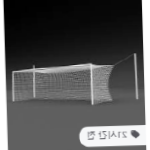goals: (10, 61, 115, 111)
